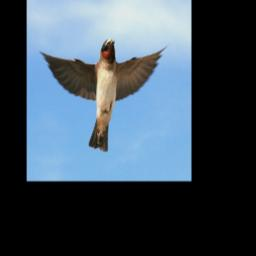Swallow: (39, 38, 170, 152)
